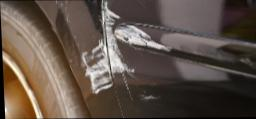Door: (106, 0, 163, 99)
Fender: (76, 1, 108, 108)
